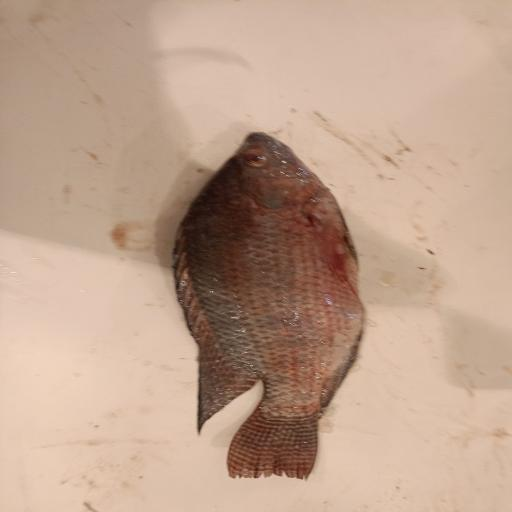Tilapia: (170, 132, 367, 483)
